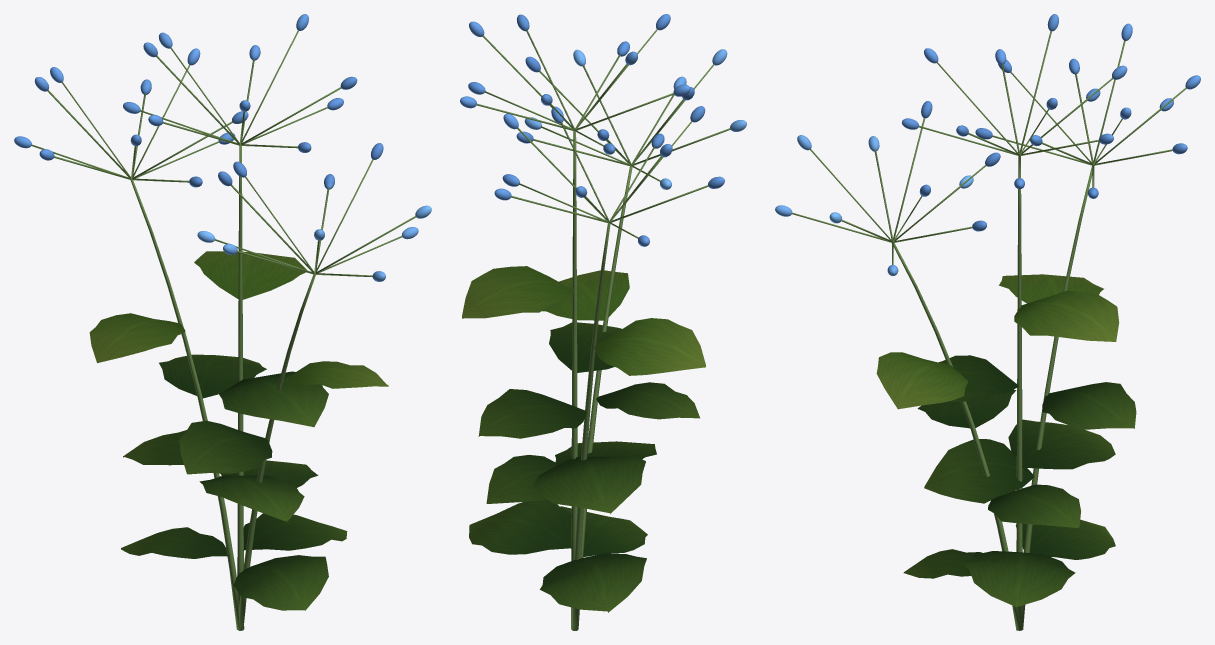
Rendered from hydrangea-08-lod.glb.
The picture shows the model from 3 angles, left to right: view 1: azimuth 30°, elevation 25°; view 2: azimuth 150°, elevation 25°; view 3: azimuth 270°, elevation 25°; orthographic projection. The views are drawn at different scales.
Visible parts, largest first — view 1: hydrangea_stage_08_leaf_veins.015, hydrangea_stage_08_stem_fibres.015, hydrangea_stage_08_young_leaf.015, hydrangea_stage_08_hydrangea_petal.015; view 2: hydrangea_stage_08_leaf_veins.015, hydrangea_stage_08_young_leaf.015, hydrangea_stage_08_stem_fibres.015, hydrangea_stage_08_hydrangea_petal.015; view 3: hydrangea_stage_08_leaf_veins.015, hydrangea_stage_08_young_leaf.015, hydrangea_stage_08_stem_fibres.015, hydrangea_stage_08_hydrangea_petal.015.
Part boxes in pixels (bbox=[...]): hydrangea_stage_08_leaf_veins.015: bbox=[121, 354, 347, 610]; hydrangea_stage_08_stem_fibres.015: bbox=[31, 30, 415, 630]; hydrangea_stage_08_young_leaf.015: bbox=[89, 251, 388, 388]; hydrangea_stage_08_hydrangea_petal.015: bbox=[14, 14, 431, 281]; hydrangea_stage_08_leaf_veins.015: bbox=[469, 322, 699, 612]; hydrangea_stage_08_young_leaf.015: bbox=[462, 266, 705, 375]; hydrangea_stage_08_stem_fibres.015: bbox=[477, 29, 730, 630]; hydrangea_stage_08_hydrangea_petal.015: bbox=[460, 14, 746, 246]; hydrangea_stage_08_leaf_veins.015: bbox=[903, 355, 1136, 607]; hydrangea_stage_08_young_leaf.015: bbox=[876, 274, 1119, 409]; hydrangea_stage_08_stem_fibres.015: bbox=[792, 31, 1186, 630]; hydrangea_stage_08_hydrangea_petal.015: bbox=[775, 14, 1200, 275].
Bounding box in the file's own units: 0.3554 × 0.7038 × 0.4687.
Materials: 4 (3 with a texture image).
